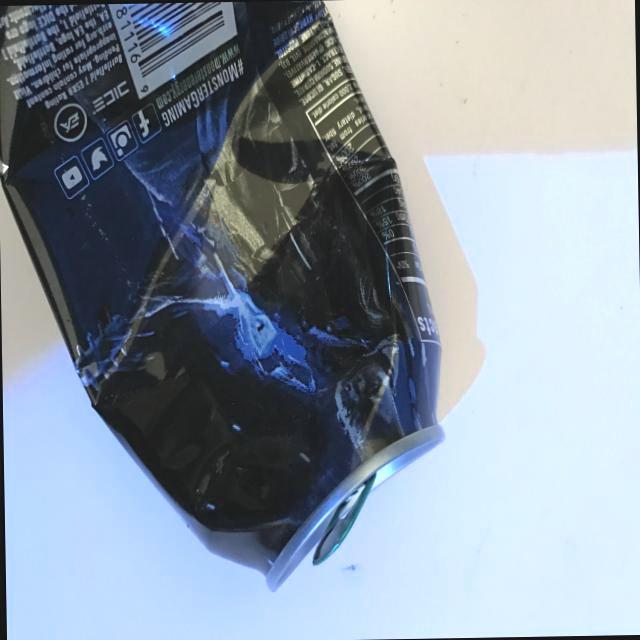metal: (0, 0, 465, 601)
